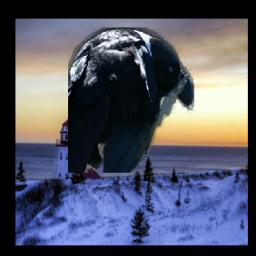Crow: (69, 27, 195, 173)
